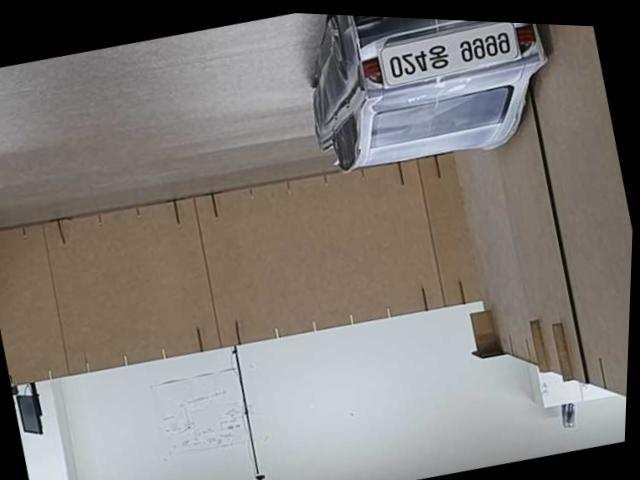car: (273, 12, 574, 202)
id: (369, 17, 526, 102)
